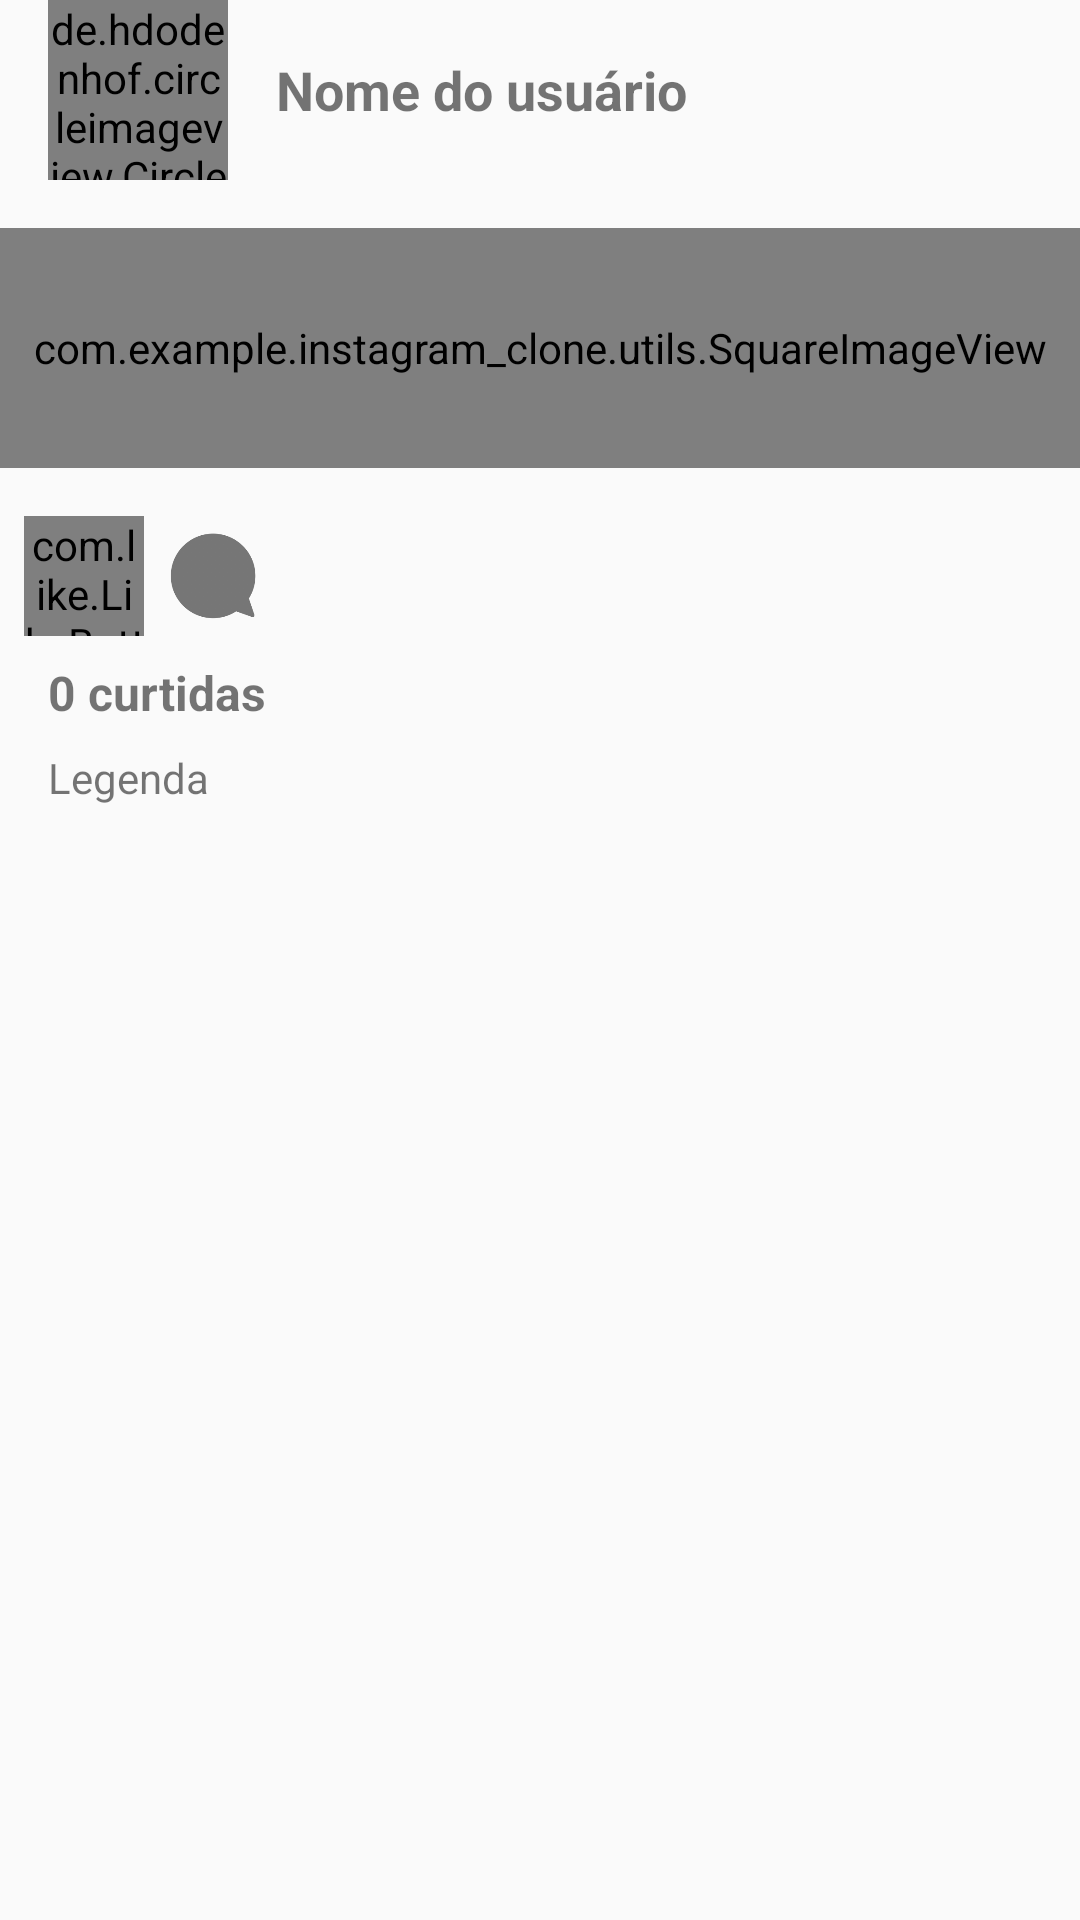

Where to tap for icons on this 1080x1920 app screen, as [x,y]:
comment: [213,575]
